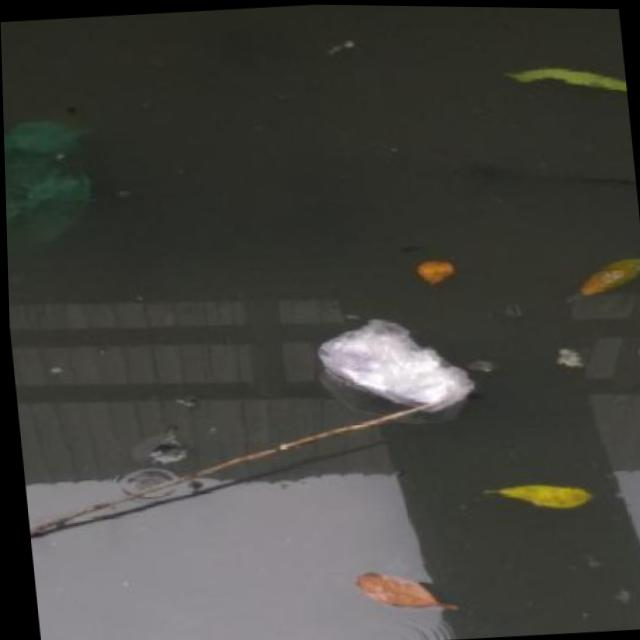plastic: (313, 311, 479, 419)
